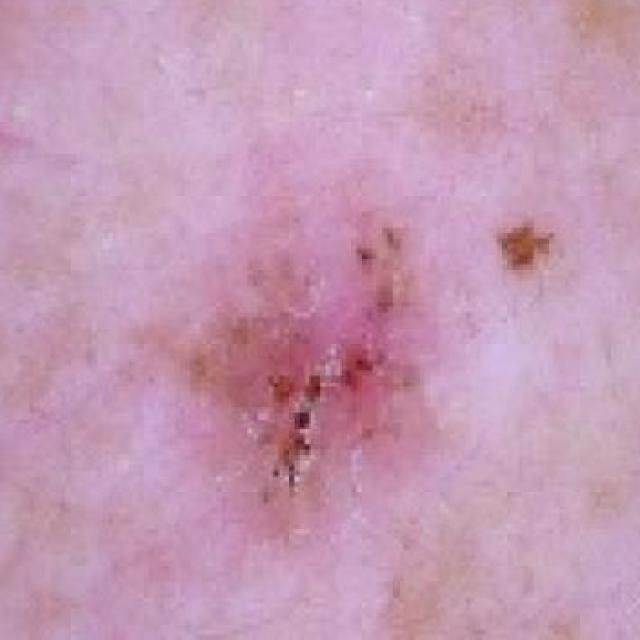BCC: (116, 166, 556, 640)
